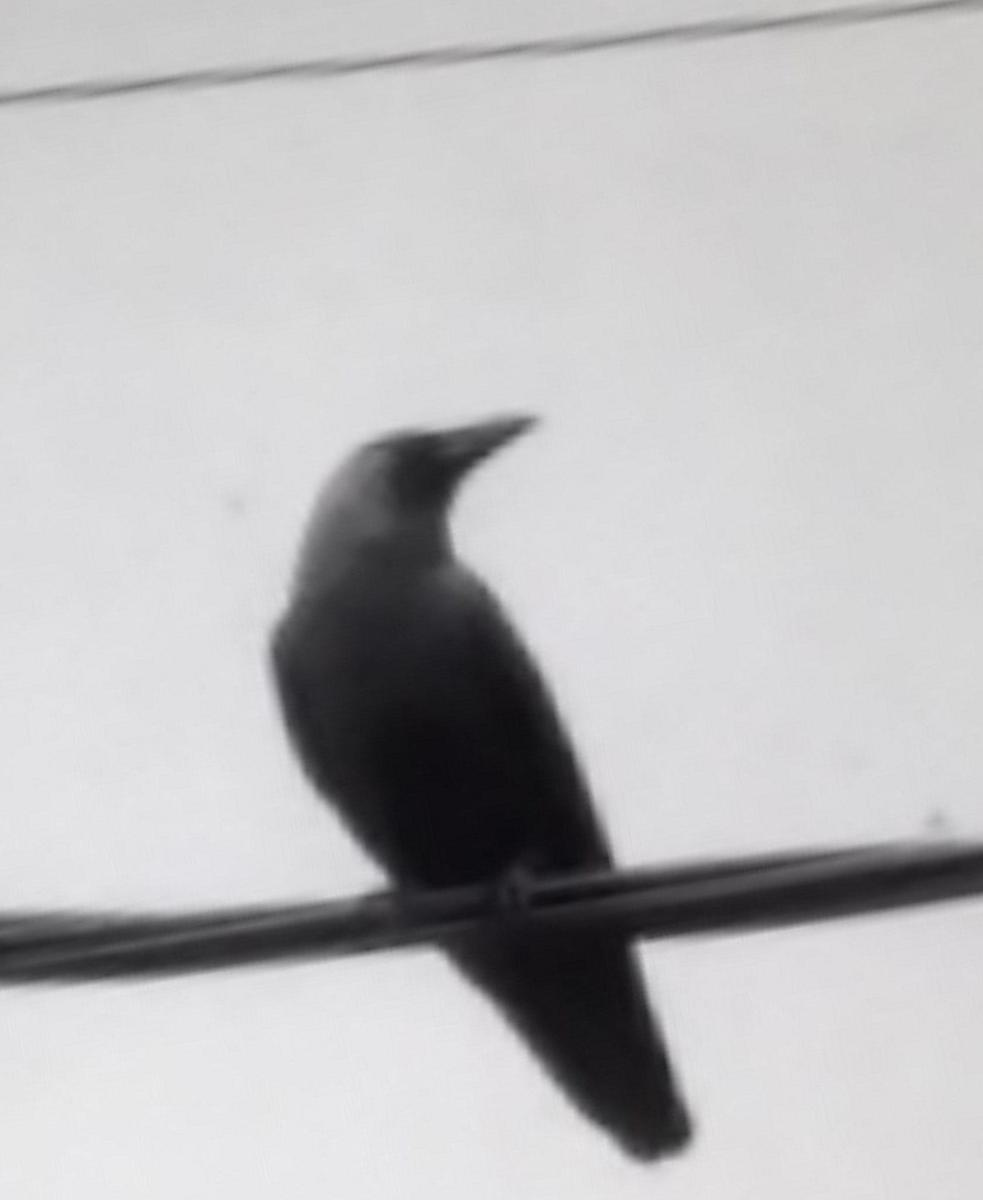crow: (268, 409, 757, 1192)
